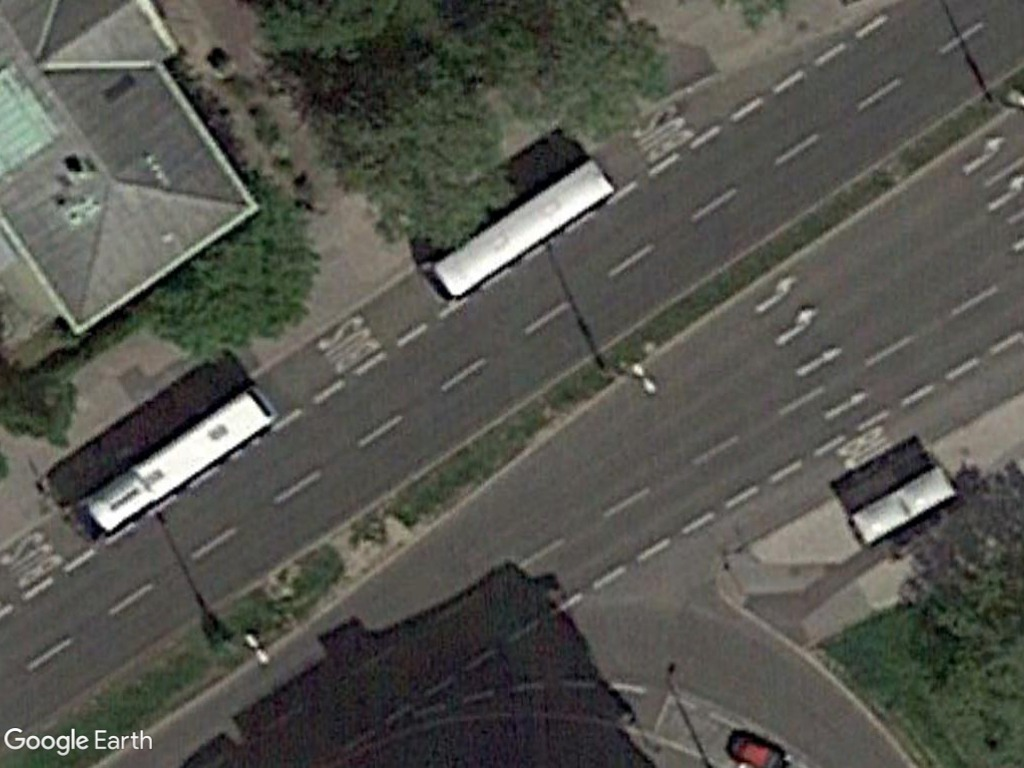bus: (68, 378, 274, 547), (422, 152, 627, 312)
